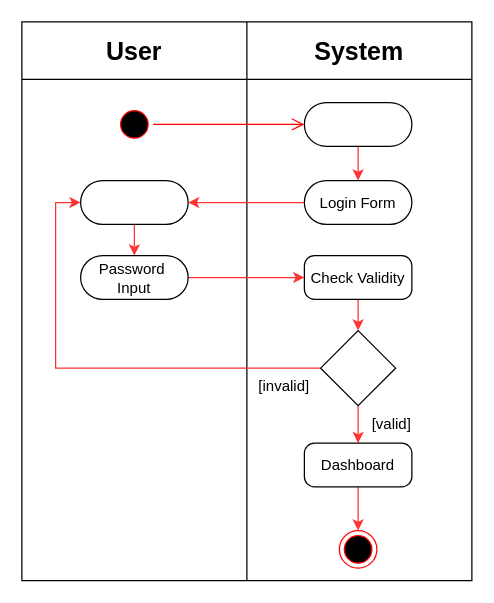
This 494x603 diagram has some shape labels left out. Here are the shapes that lost their labels. From the top down, the box of each, then its label:
(303, 101, 412, 146): Login Menu
(79, 179, 188, 224): Username Input
